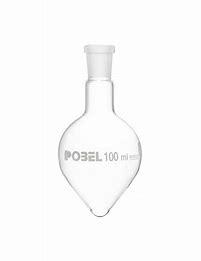Pear shaped flask: (52, 36, 139, 220)
